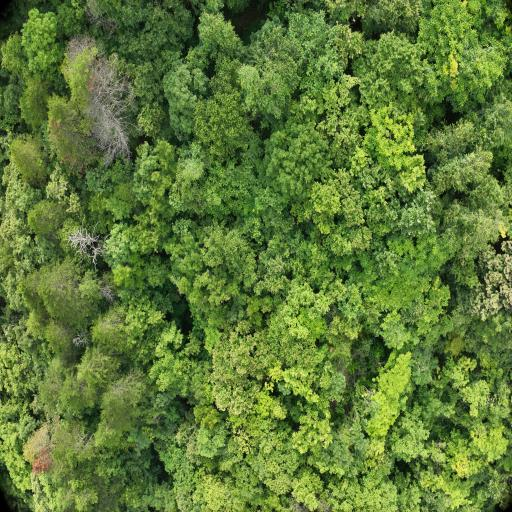dead-tree: (92, 105, 124, 155), (98, 66, 122, 93), (72, 234, 100, 256)
